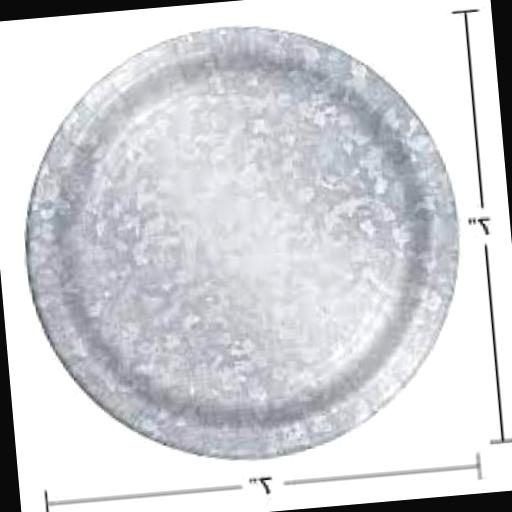metal: (10, 6, 481, 476)
